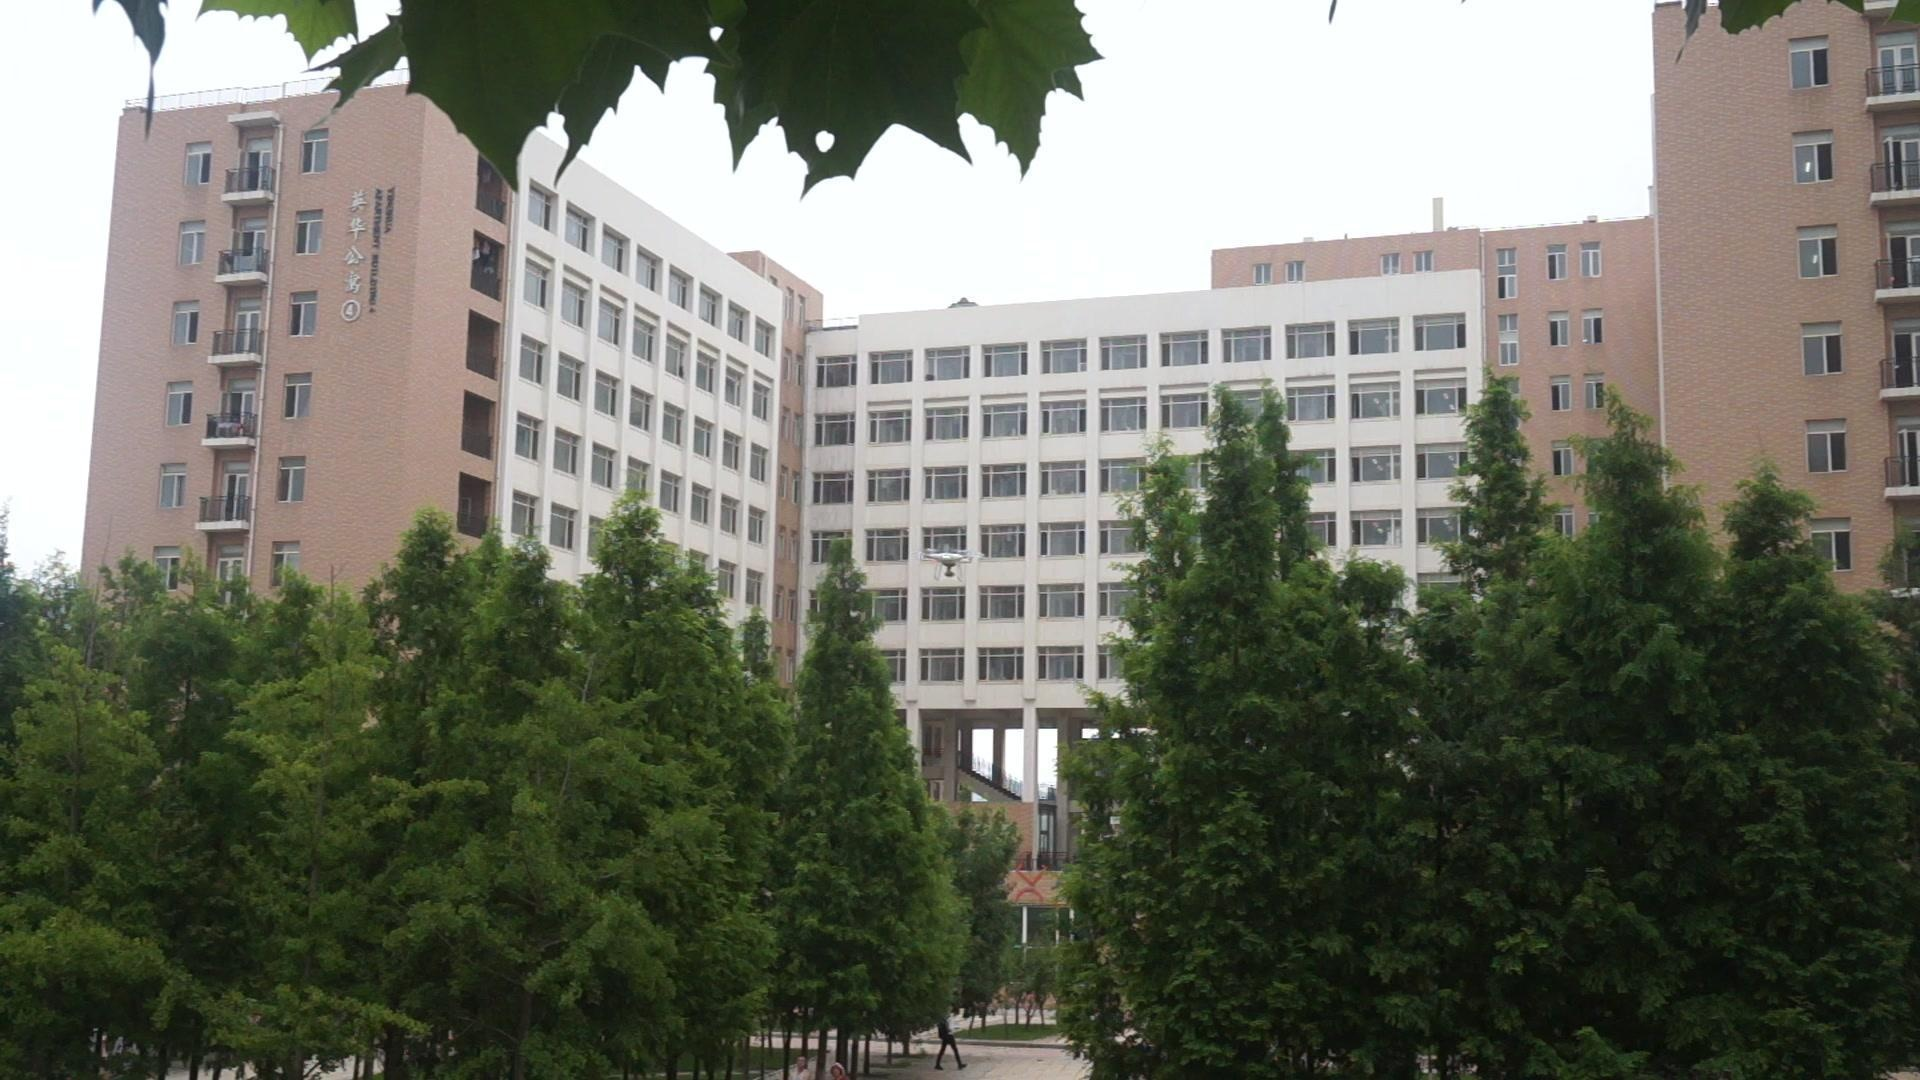UAV: (916, 549, 985, 583)
